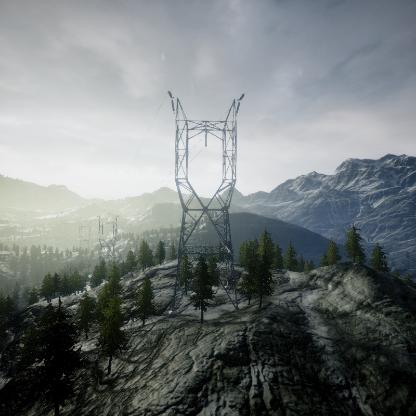tower: (166, 88, 248, 318), (95, 215, 120, 265)
